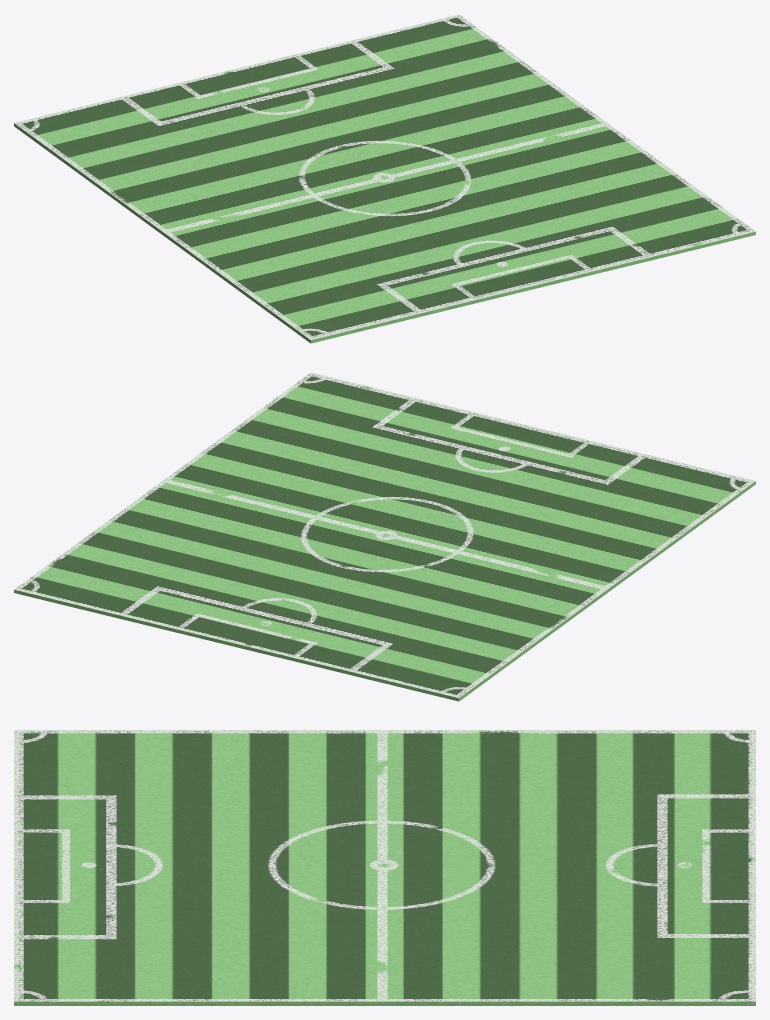
The model's file is STADIUM_Field_Mesh.fbx.
The picture shows the model from 3 angles, top to bottom: view 1: azimuth 30°, elevation 25°; view 2: azimuth 150°, elevation 25°; view 3: azimuth 270°, elevation 25°; orthographic projection. The views are drawn at different scales.
Visible parts, largest first — view 1: STADIUM_Field_Mesh; view 2: STADIUM_Field_Mesh; view 3: STADIUM_Field_Mesh.
Boxes of the visible parts, bbox=[...] form: STADIUM_Field_Mesh: bbox=[14, 14, 755, 343]; STADIUM_Field_Mesh: bbox=[14, 372, 755, 701]; STADIUM_Field_Mesh: bbox=[14, 730, 755, 1005].
Size of the model in its own units: 300 by 2.17 by 346.
